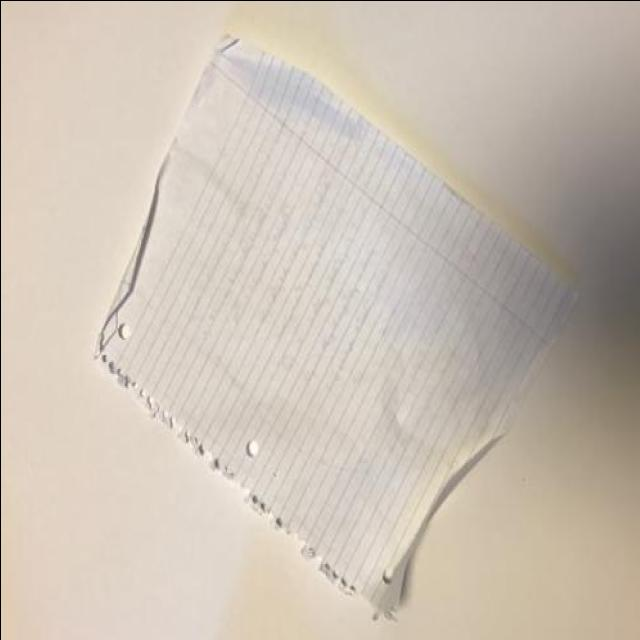kertas: (88, 29, 577, 622)
